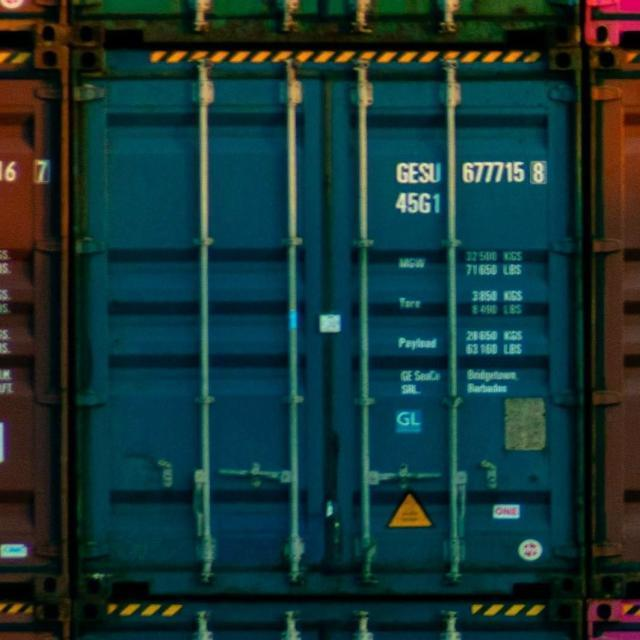ISO: (398, 184, 447, 220)
container_number: (396, 160, 544, 185)
